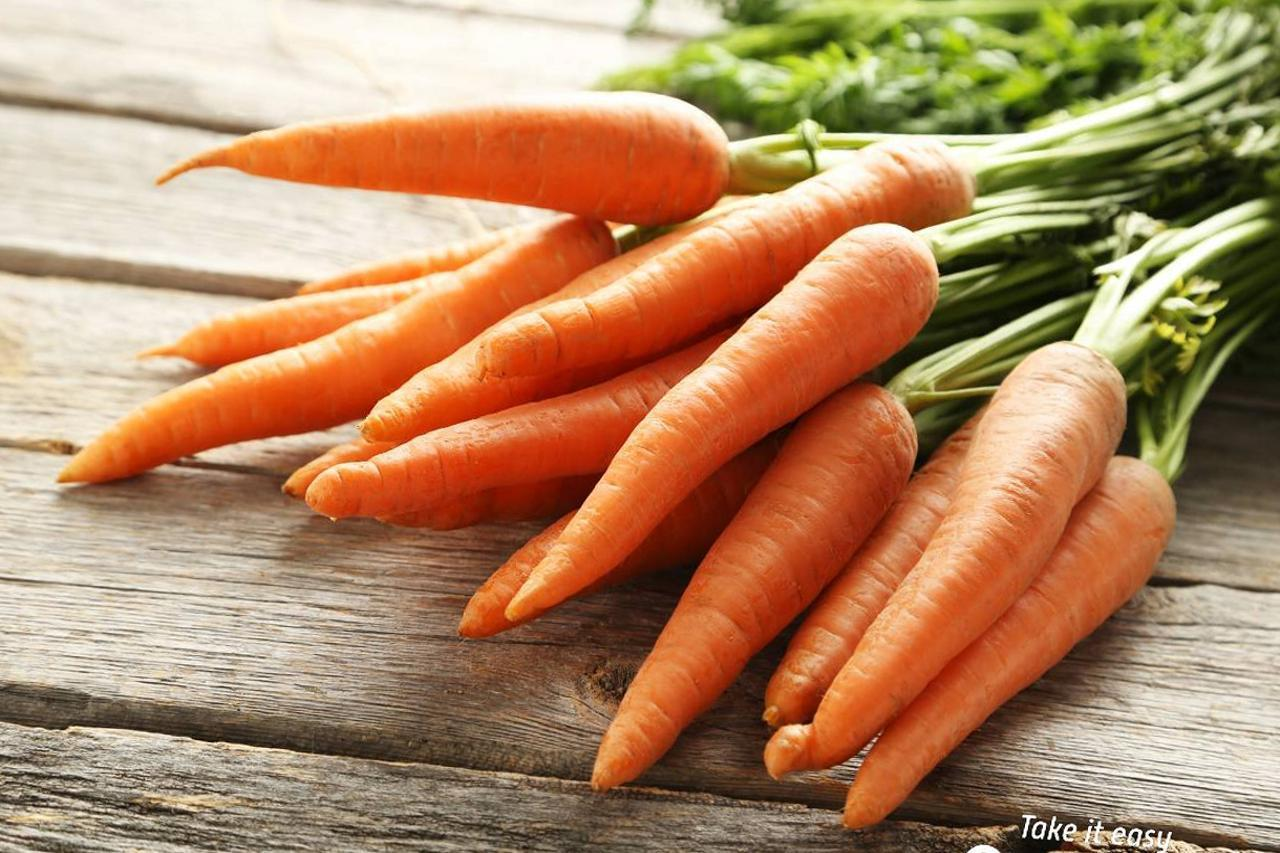carrot: (109, 196, 1206, 819), (493, 253, 1193, 794), (178, 78, 785, 226)
